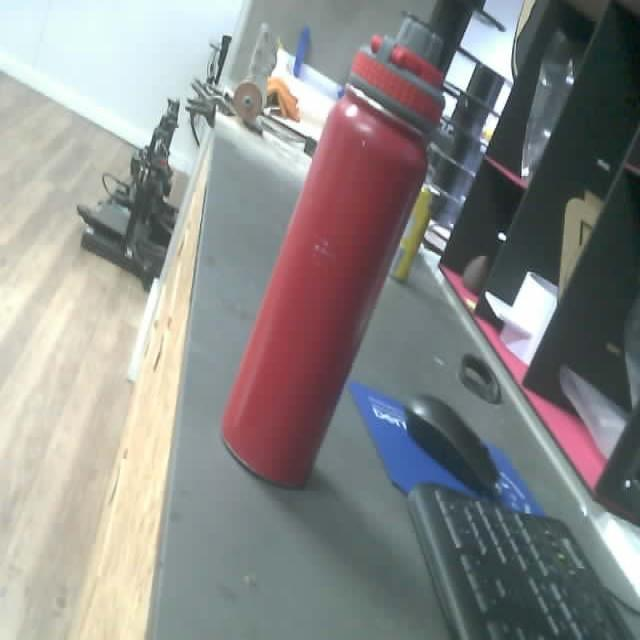water bottle: (218, 0, 478, 489)
